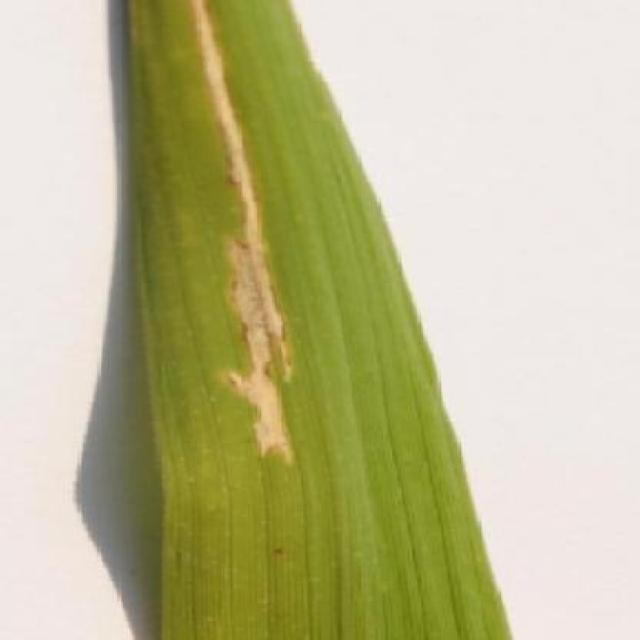Brown_Spot: (123, 0, 326, 483)
